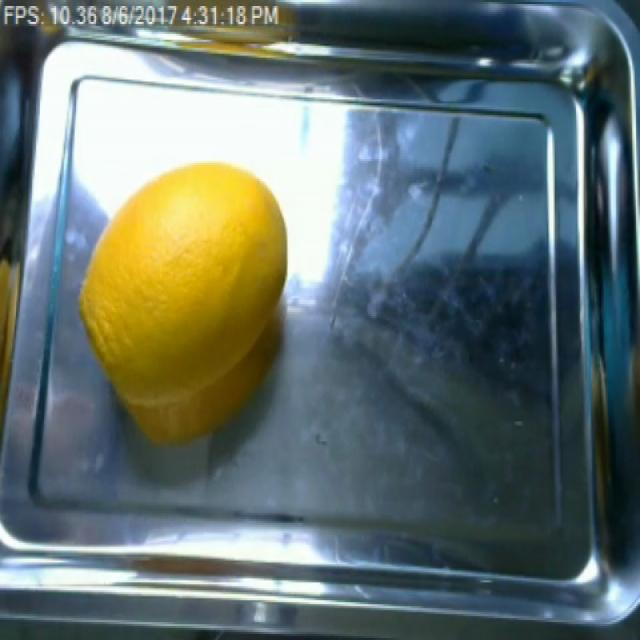Fruit: (74, 149, 294, 451)
